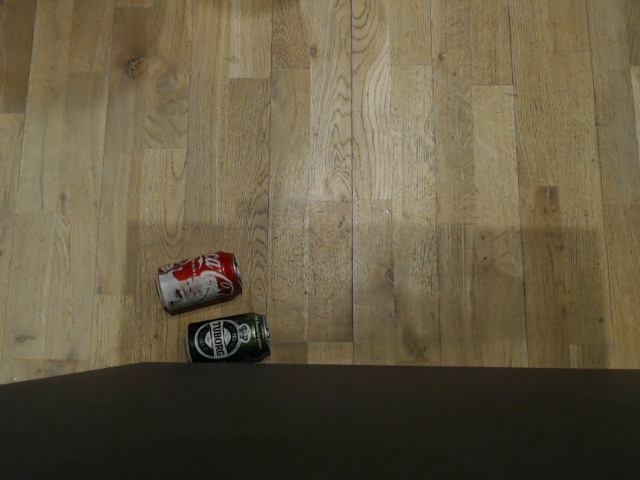beer: (183, 312, 273, 364)
cola: (154, 249, 246, 316)
